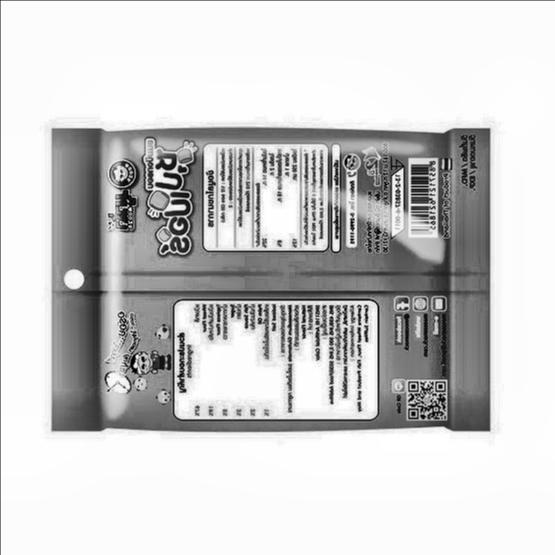snackbag: (24, 86, 524, 490)
